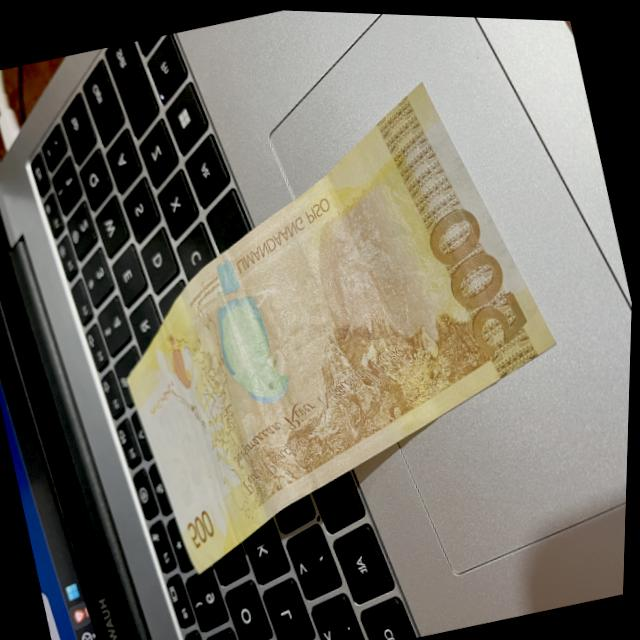500_big_parrot: (193, 246, 306, 414)
500_parrot_watermark: (157, 317, 206, 398)
watermark: (149, 399, 224, 508)
